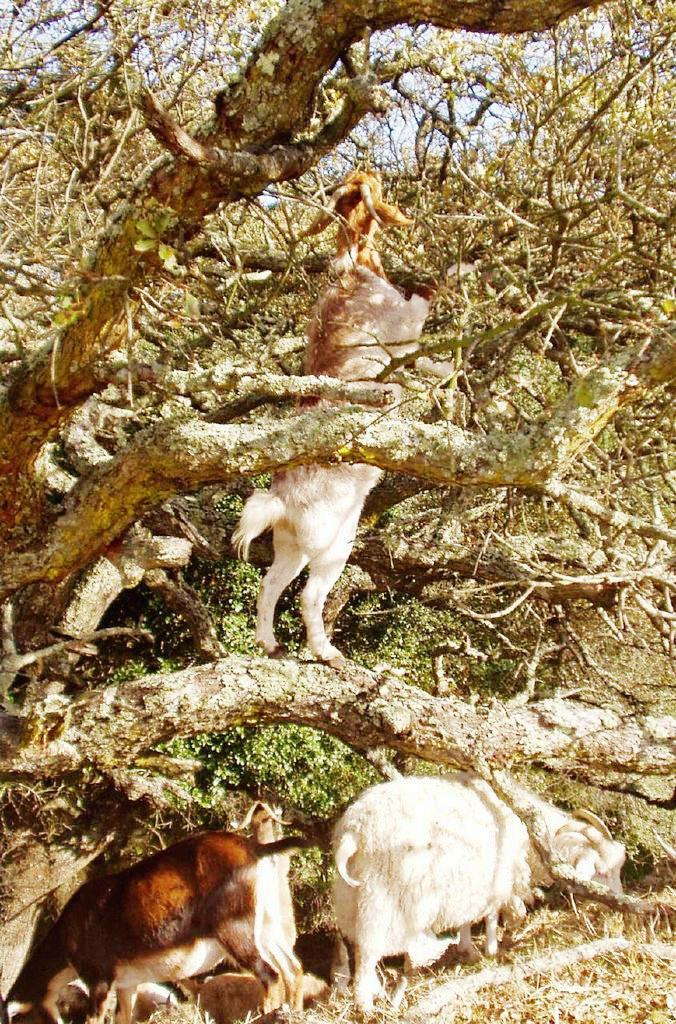Sheep: (221, 160, 475, 670), (0, 798, 338, 1022), (332, 772, 625, 1022)
